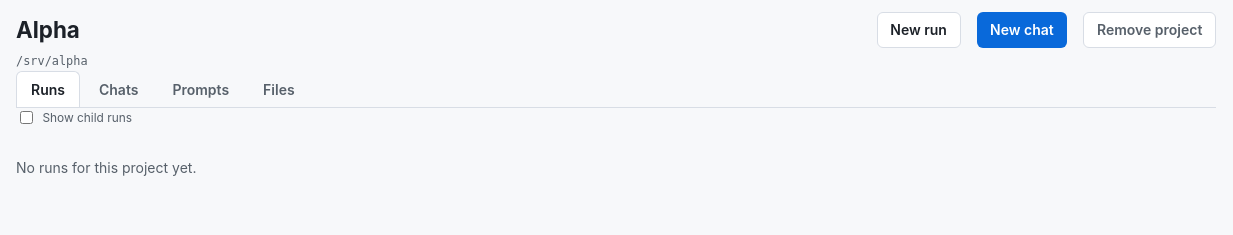
Test: ProjectView › Prompts pane shows an empty state with no prompts (via PromptList)
Click the tab with test id "tab-prompts" at (201, 89), box [157,71,244,107]
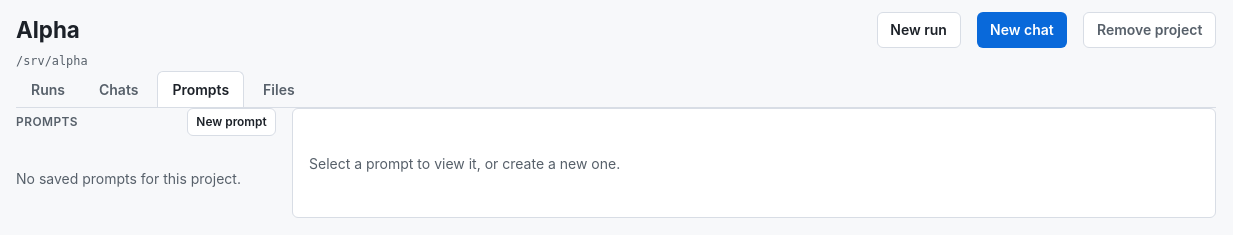
Now the text "No saved prompts for this project." is shown, box [16,170,241,187]
